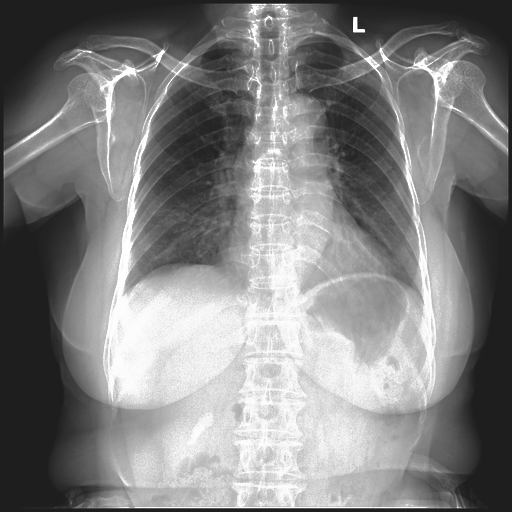Consolidation: (289, 94, 328, 150)
Nodule/Mass: (217, 233, 393, 280)
